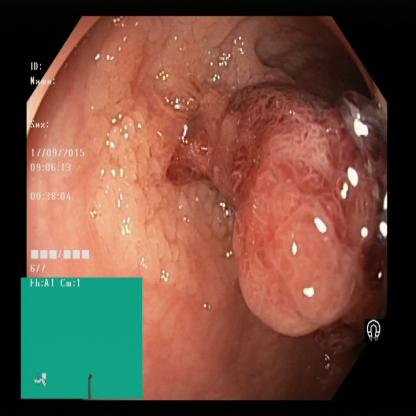Labels: (28, 58, 101, 277), (22, 273, 145, 401), (363, 314, 392, 343)
Polyps: (248, 95, 367, 325)
